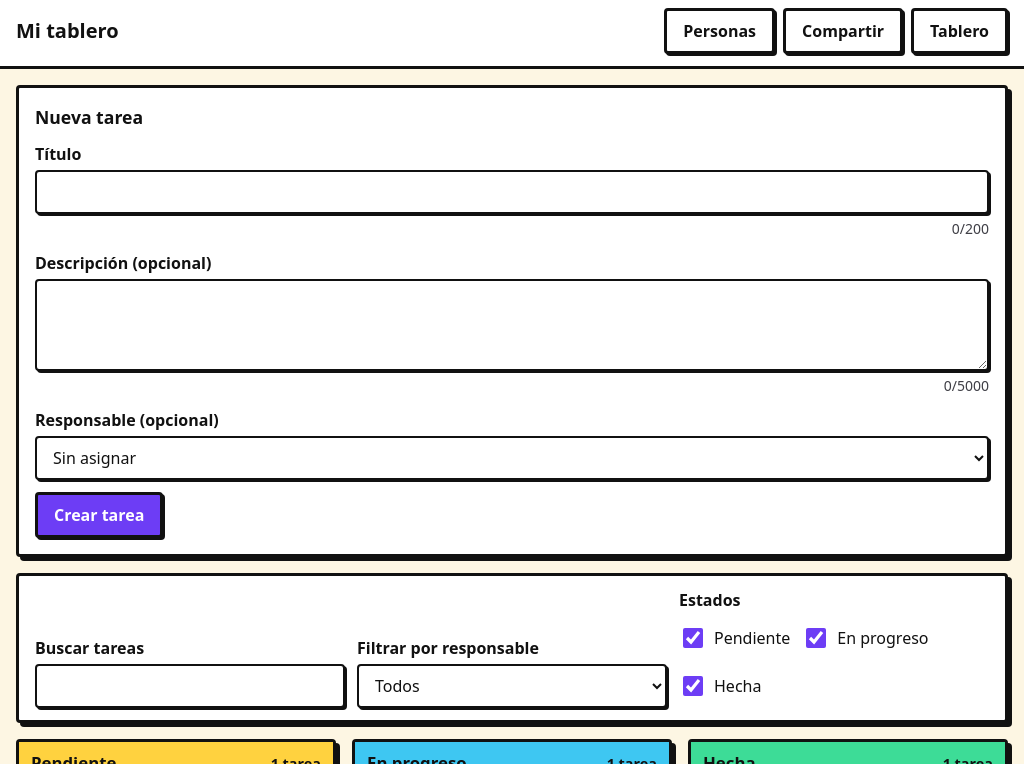
Test: búsqueda y filtros (US4) › sin coincidencias en la búsqueda: mensaje con el texto y "Limpiar búsqueda y filtros"
Type "zzz" into the search field labelled "Buscar tareas" at (190, 686), box [35,664,345,708]
(page scrolled)
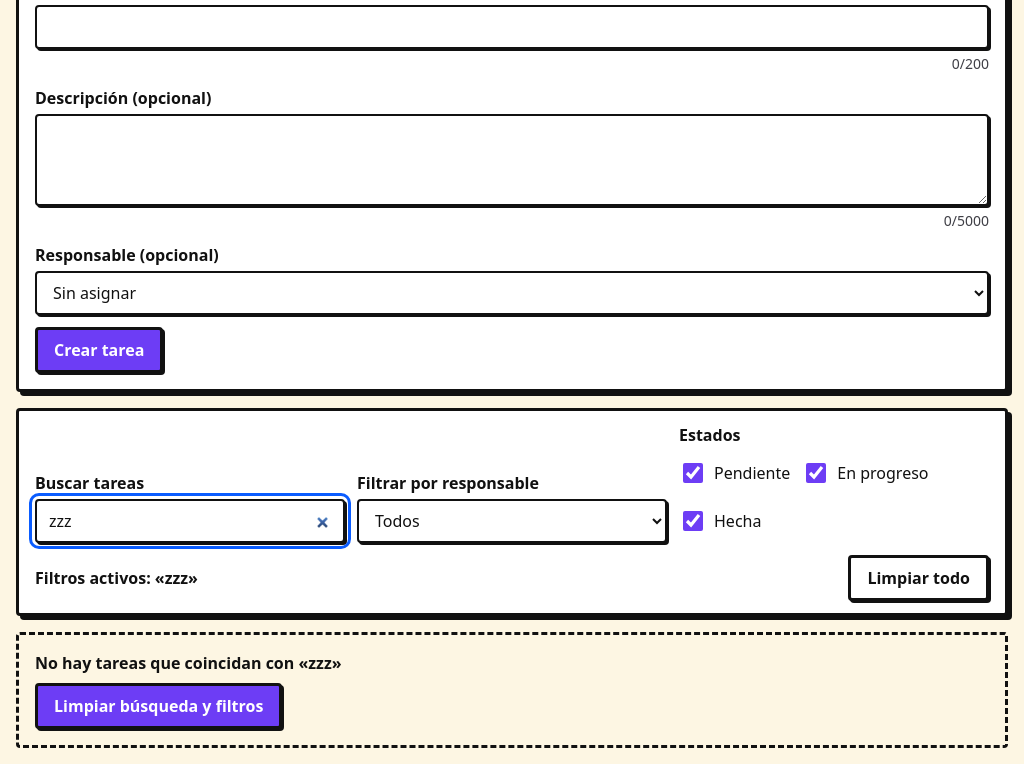
Result: the text "No hay tareas que coincidan con «zzz»" is shown at [35,651,342,675]
Click the button "Limpiar búsqueda y filtros" at (159, 706), box [35,683,282,729]
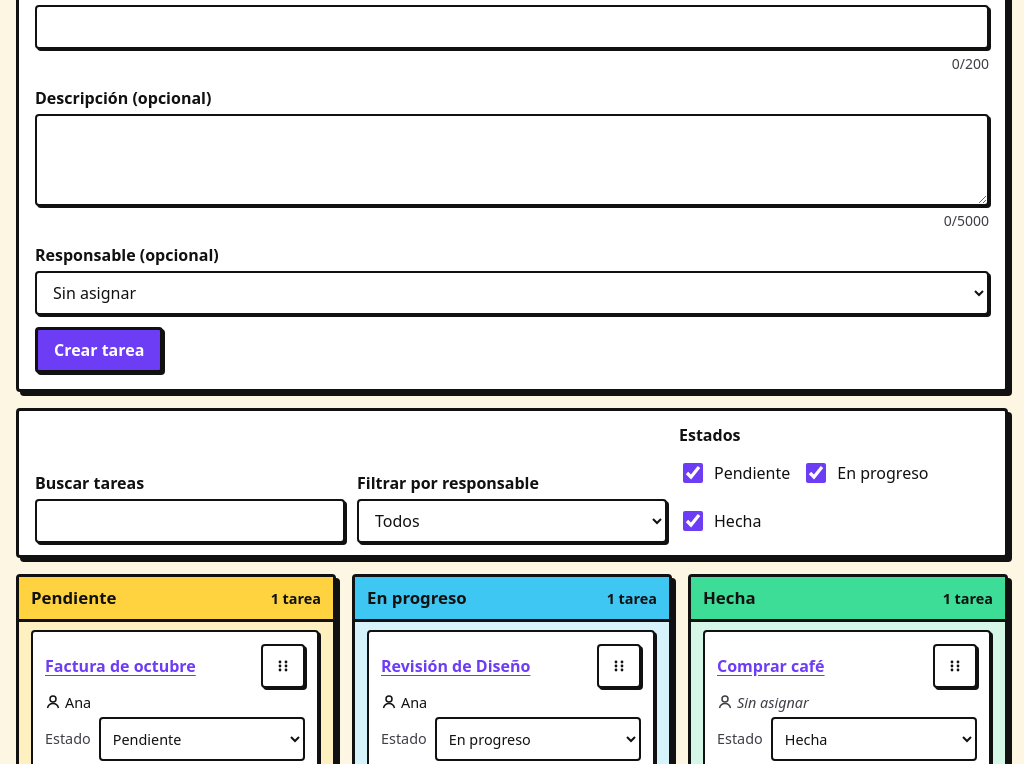
Result: the search field labelled "Buscar tareas" is empty at [35,499,345,543]
